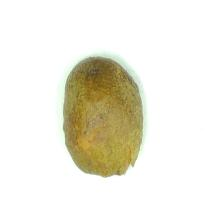NG: (107, 141, 136, 179), (77, 59, 105, 85)
